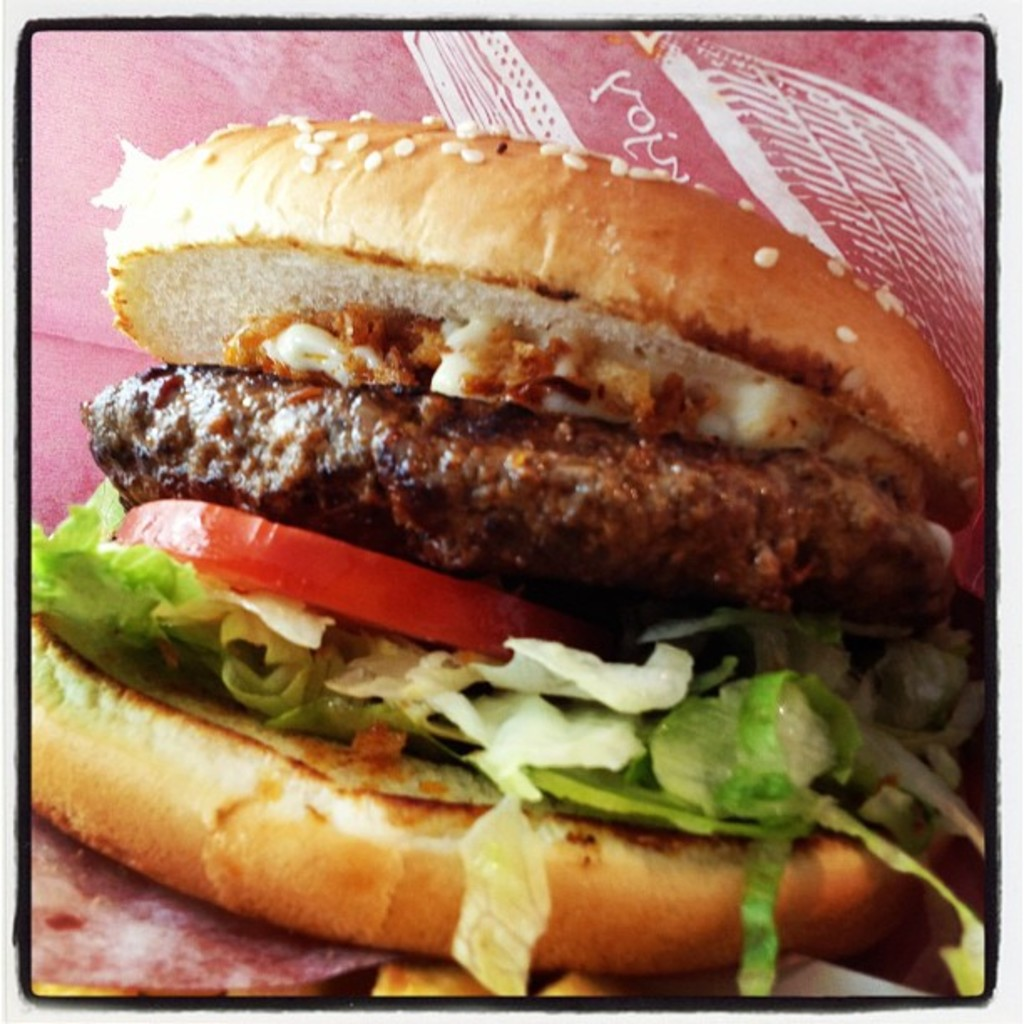hamburger: (28, 117, 989, 1001)
